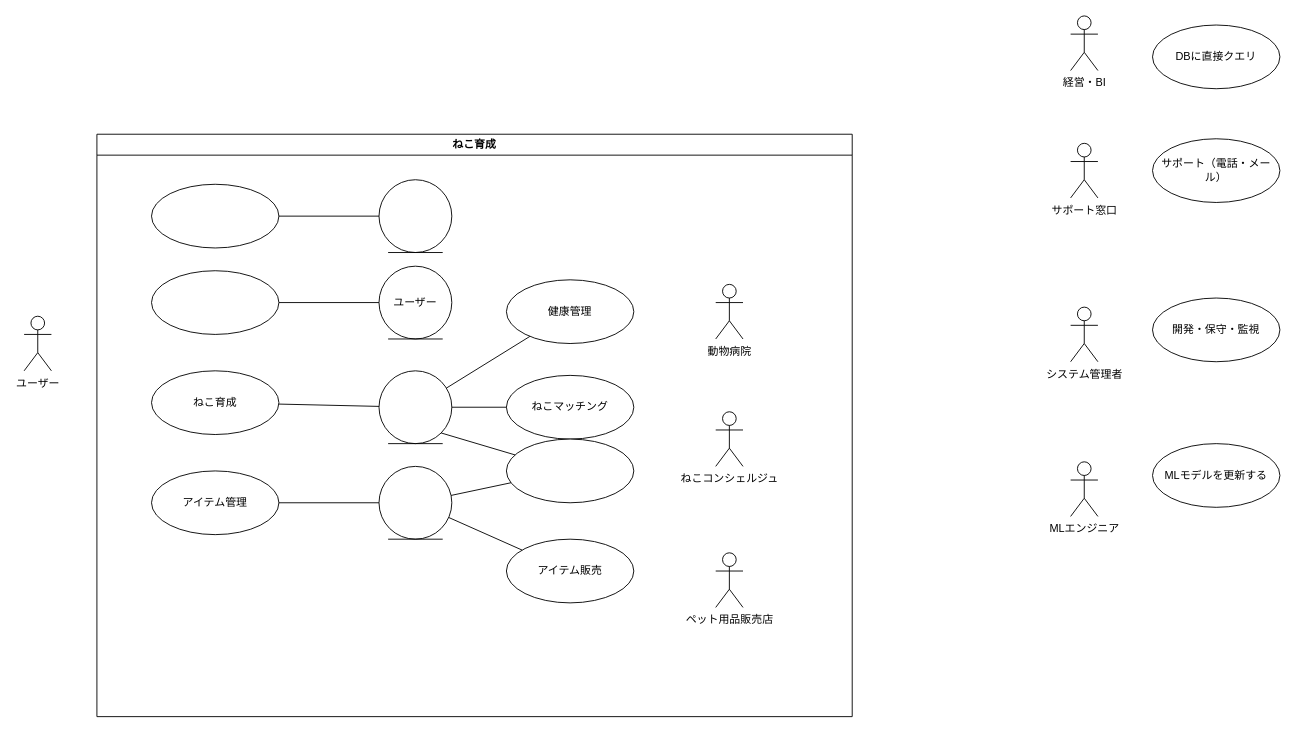
The diagram is 1296 pixels wide and 733 high, and some of its shapes have lost their labels. Here are the shapes that lost their labels. From the top down, the centre of each, then its label:
At pixel 215 215: "課金管理".
At pixel 415 216: "クレジット".
At pixel 215 302: "ユーザー管理".
At pixel 415 407: "ねこ".
At pixel 570 470: "ねこ育成アドバイス".
At pixel 415 502: "アイテム".
